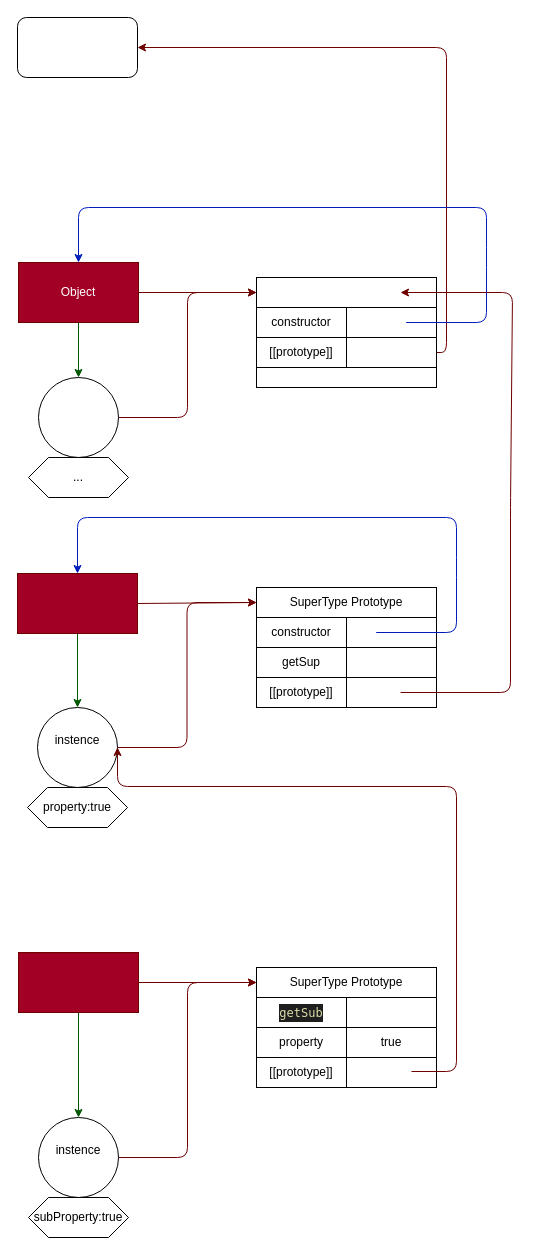
Image size: 538x1255. Some labels were removed from this diagram. Here are the shapes that lost their labels. From the top down, the centre of each, then its label:
At point 77,47: "null".
At point 346,292: "Object Prototype".
At point 78,417: "instence Object".
At point 77,603: "SuperType".
At point 78,982: "SubType".
